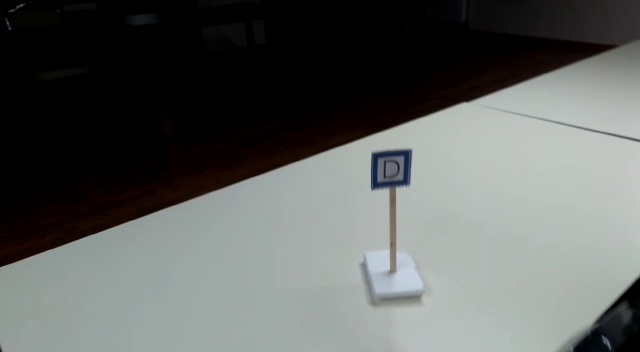durak: (371, 147, 412, 191)
